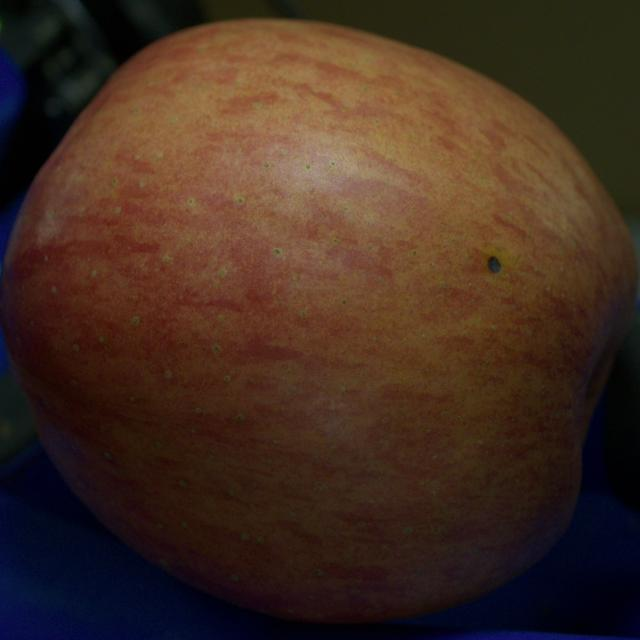apple: (0, 20, 637, 623)
pest: (488, 256, 501, 272)
